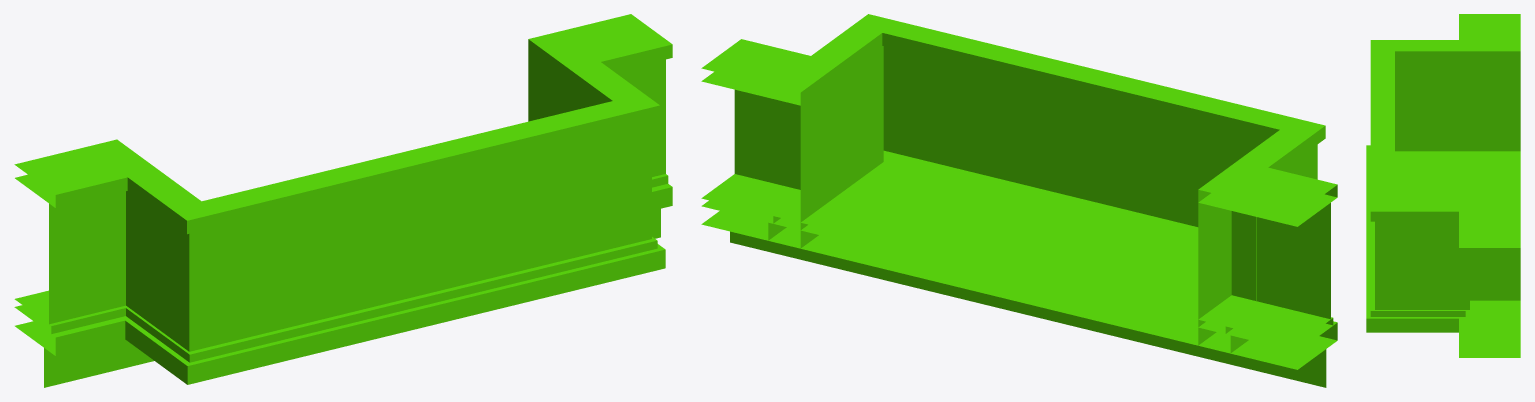
Rendered from SM_town_BD_3Fsub.fbx.
3 renders of one model, left to right at view 1: azimuth 30°, elevation 25°; view 2: azimuth 150°, elevation 25°; view 3: azimuth 270°, elevation 25°, orthographic. The views are drawn at different scales.
Parts seen in each view (by area): view 1: 3F_bot_low.001; view 2: 3F_bot_low.001; view 3: 3F_bot_low.001.
Part boxes in pixels (x1,y1,x2,y2): 3F_bot_low.001: [14, 14, 672, 387]; 3F_bot_low.001: [701, 14, 1337, 387]; 3F_bot_low.001: [1366, 14, 1520, 357].
Size of the model in its own units: 240 by 75 by 70.
